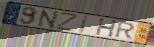9: (18, 6, 39, 26)
H: (95, 17, 119, 38)
I: (77, 14, 90, 36)
N: (36, 9, 60, 30)
R: (113, 21, 137, 41)
Z: (56, 12, 80, 33)
